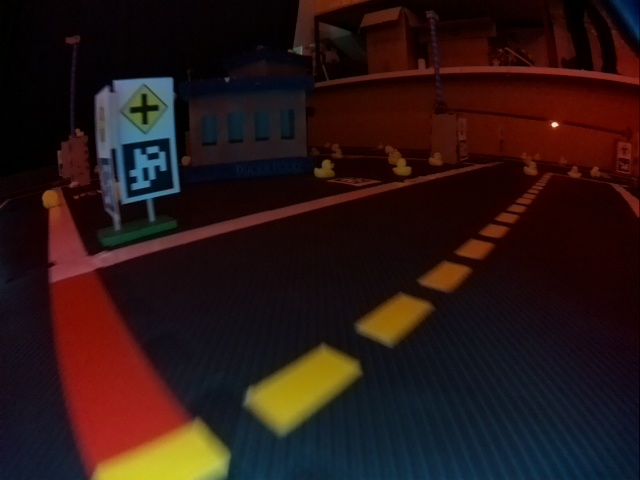Duckie: (314, 159, 333, 178)
Intersection sign: (120, 84, 169, 133)
QR code: (122, 138, 174, 199), (97, 158, 117, 217)
